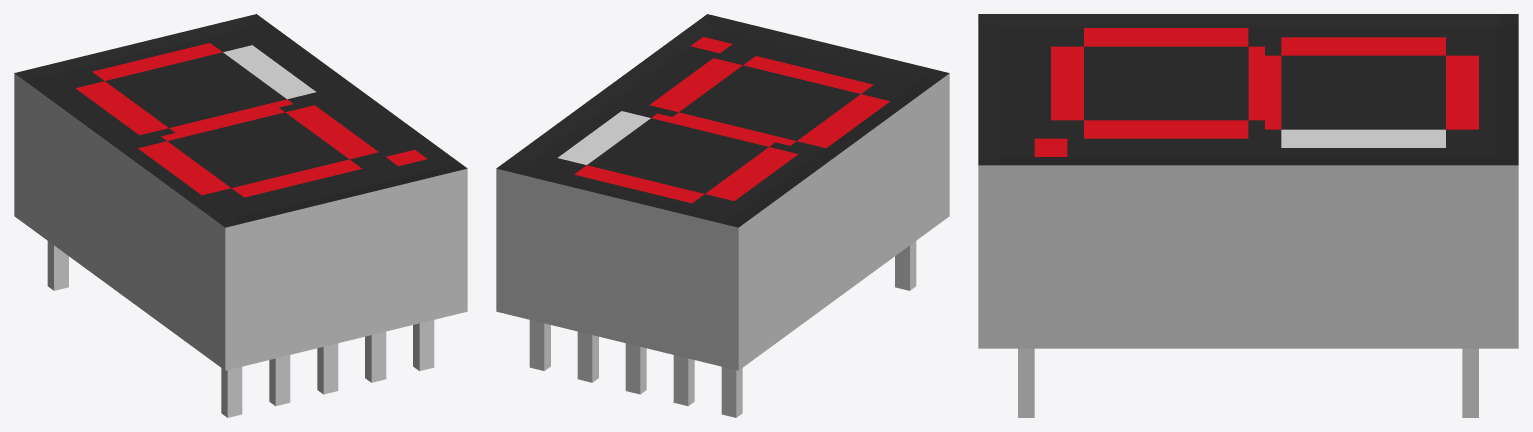
The model's file is 7SegmentDisplay.glb.
The picture shows the model from 3 angles, left to right: view 1: azimuth 30°, elevation 25°; view 2: azimuth 150°, elevation 25°; view 3: azimuth 270°, elevation 25°; orthographic projection. The views are drawn at different scales.
Visible parts, largest first — view 1: 7 Segment Display, 7 Segment Display.001, 7 Segment Display.004, 7 Segment Display.005, 7 Segment Display.002, 7 Segment Display.003, 7 Segment Display.010; view 2: 7 Segment Display, 7 Segment Display.010, 7 Segment Display.006, 7 Segment Display.007, 7 Segment Display.008, 7 Segment Display.009, 7 Segment Display.001; view 3: 7 Segment Display, 7 Segment Display.005, 7 Segment Display.006.
Part boxes in pixels (x1,y1,x2,y2): 7 Segment Display: [14, 14, 467, 370]; 7 Segment Display.001: [221, 367, 242, 417]; 7 Segment Display.004: [365, 331, 386, 382]; 7 Segment Display.005: [413, 320, 434, 370]; 7 Segment Display.002: [269, 355, 290, 406]; 7 Segment Display.003: [317, 343, 338, 394]; 7 Segment Display.010: [47, 241, 68, 290]; 7 Segment Display: [496, 14, 949, 370]; 7 Segment Display.010: [721, 367, 742, 417]; 7 Segment Display.006: [529, 320, 550, 370]; 7 Segment Display.007: [577, 331, 598, 382]; 7 Segment Display.008: [625, 343, 646, 394]; 7 Segment Display.009: [673, 355, 694, 406]; 7 Segment Display.001: [895, 241, 916, 290]; 7 Segment Display: [978, 14, 1518, 348]; 7 Segment Display.005: [1018, 348, 1034, 417]; 7 Segment Display.006: [1462, 348, 1478, 417].
Bounding box in the file's own units: 0.2334 × 0.1896 × 0.3522.
